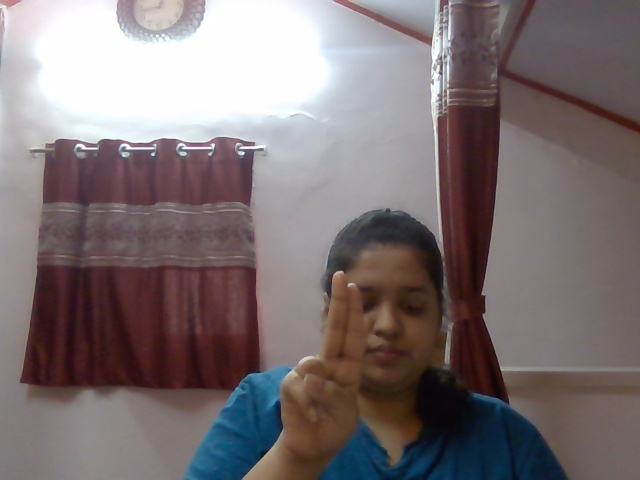u: (266, 259, 385, 464)
